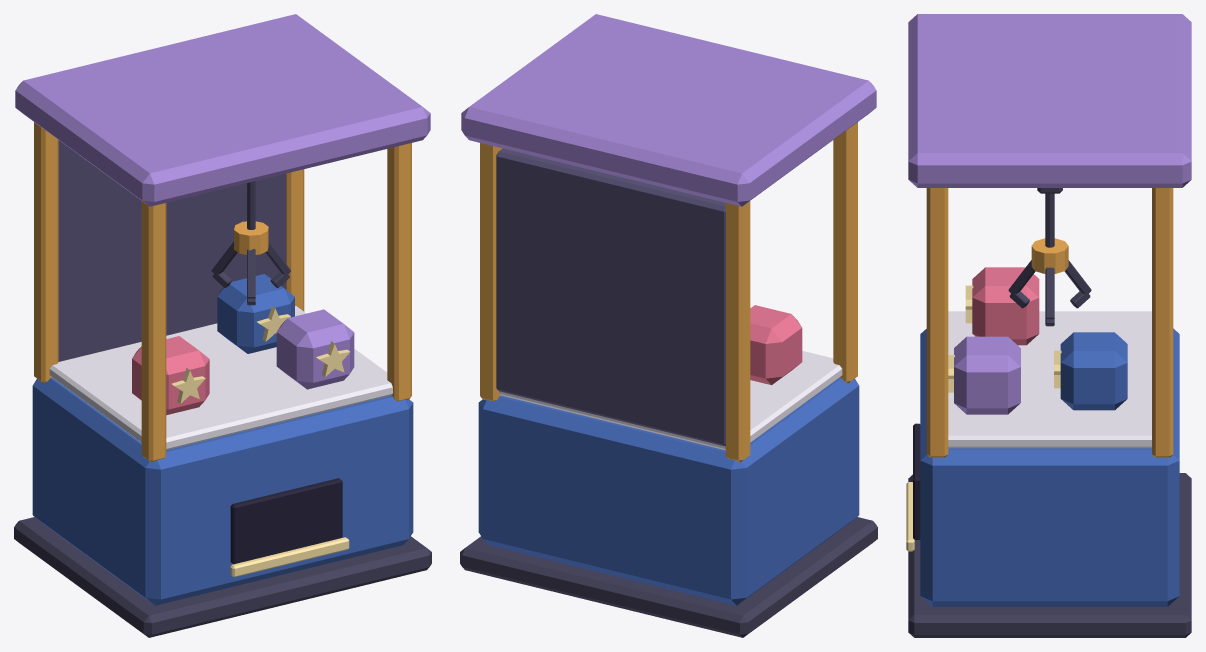
File: 04_Prize_Crane_Machine.glb
The picture shows the model from 3 angles, left to right: view 1: azimuth 30°, elevation 25°; view 2: azimuth 150°, elevation 25°; view 3: azimuth 270°, elevation 25°; orthographic projection. The views are drawn at different scales.
Parts seen in each view (by area): view 1: 04_Prize_Crane_Machine__Body; view 2: 04_Prize_Crane_Machine__Body; view 3: 04_Prize_Crane_Machine__Body.
Boxes of the visible parts, x1,y1,x2,y2 form: 04_Prize_Crane_Machine__Body: [14, 14, 431, 637]; 04_Prize_Crane_Machine__Body: [460, 14, 877, 637]; 04_Prize_Crane_Machine__Body: [906, 14, 1191, 637].
Bounding box in the file's own units: 2.44 × 3.74 × 2.
1 material, 1 textured.
